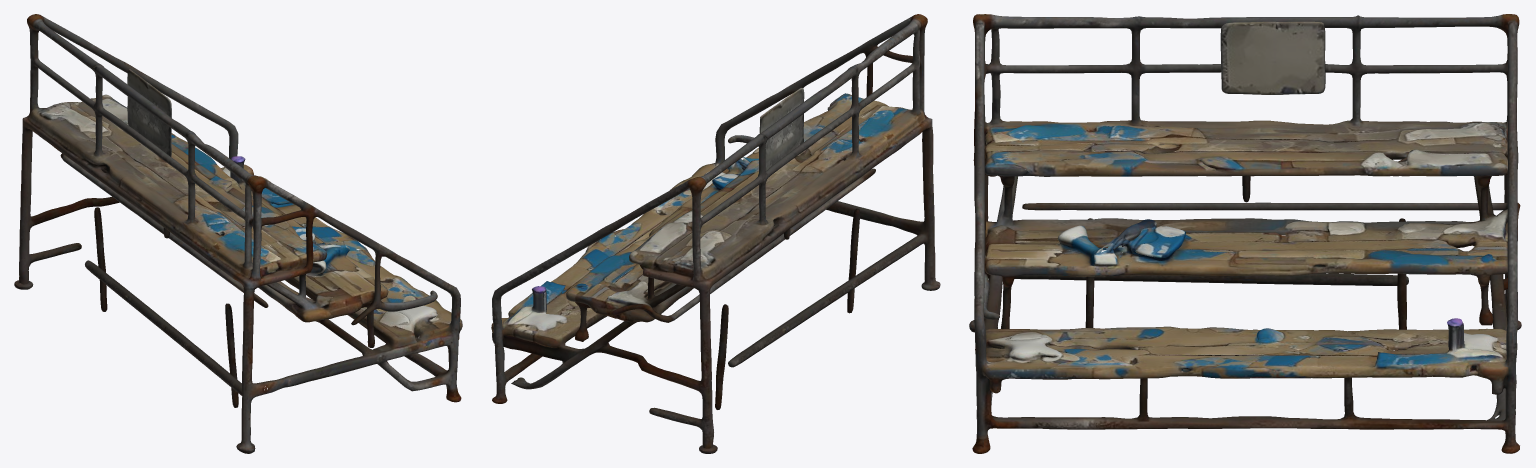
The model's file is g67_tribune.glb.
3 views of the same model, side by side, from view 1: azimuth 30°, elevation 25°; view 2: azimuth 150°, elevation 25°; view 3: azimuth 270°, elevation 25° (orthographic). The views are drawn at different scales.
Visible parts, largest first — view 1: tripo_node_4bb9aa29; view 2: tripo_node_4bb9aa29; view 3: tripo_node_4bb9aa29.
Boxes of the visible parts, x1=… form: tripo_node_4bb9aa29: x1=14, y1=14, x2=462, y2=453; tripo_node_4bb9aa29: x1=491, y1=14, x2=940, y2=453; tripo_node_4bb9aa29: x1=969, y1=14, x2=1521, y2=453.
Bounding box in the file's own units: 56.47 × 63.36 × 98.05.
Materials: 1 (1 with a texture image).
